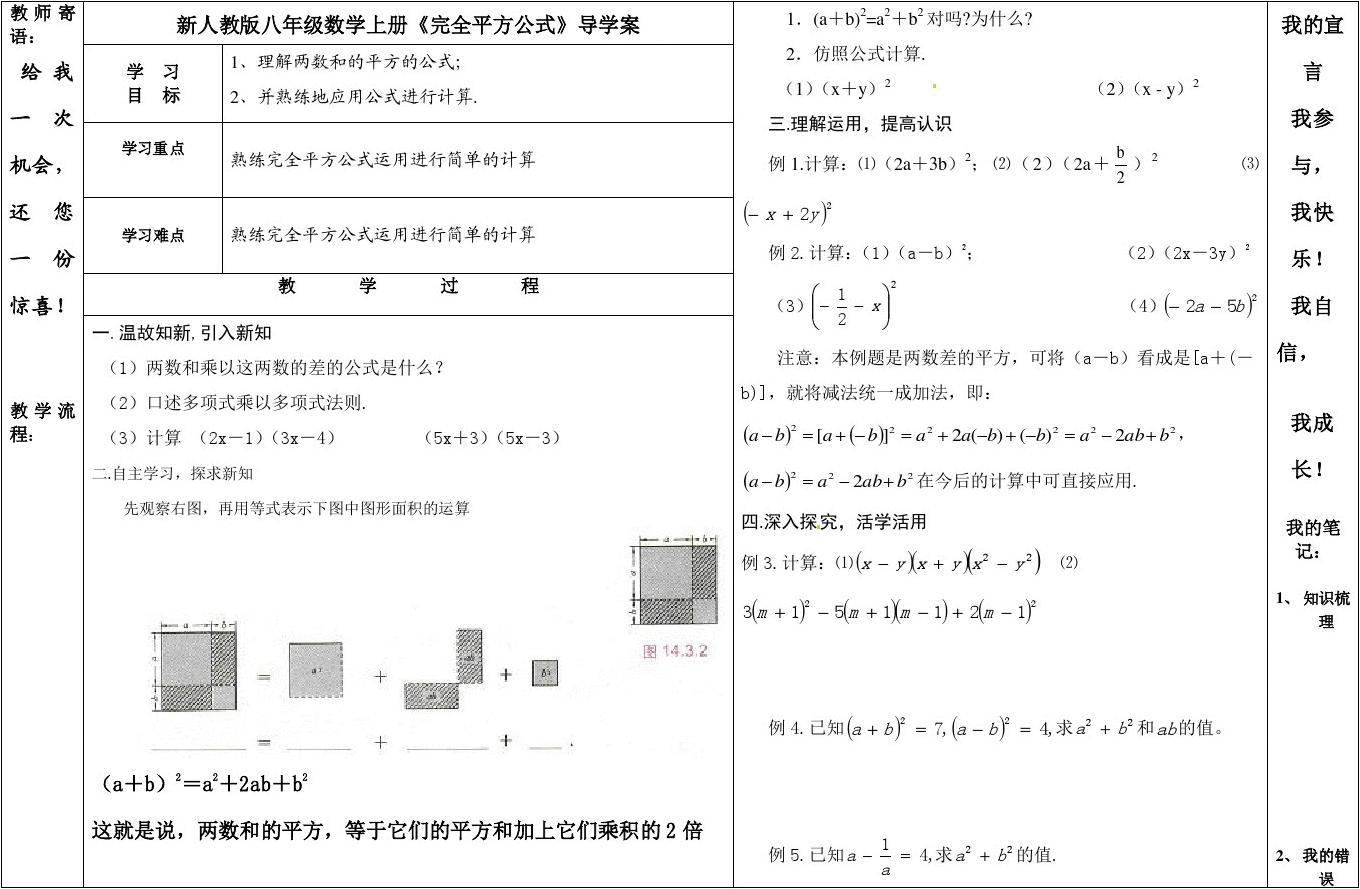division: (877, 848, 895, 862), (1111, 160, 1131, 171), (835, 301, 848, 310)
square: (1239, 238, 1256, 255), (916, 1, 930, 20), (962, 145, 975, 165), (1187, 75, 1204, 90), (1024, 549, 1039, 565), (897, 712, 910, 730), (1145, 150, 1161, 164), (170, 769, 183, 786), (786, 468, 801, 482), (1123, 716, 1139, 729), (888, 276, 900, 293), (855, 5, 869, 19), (1026, 596, 1040, 610), (297, 768, 310, 783), (882, 76, 895, 91), (824, 467, 836, 482), (1050, 421, 1061, 437), (881, 5, 894, 18), (922, 425, 935, 438), (1168, 421, 1179, 436), (957, 242, 969, 255), (787, 422, 801, 433), (982, 550, 992, 565), (1001, 715, 1013, 727), (804, 597, 813, 612), (905, 468, 916, 480), (209, 771, 219, 784), (961, 844, 974, 854), (1088, 422, 1097, 436), (1081, 718, 1093, 727), (1252, 291, 1259, 305), (1006, 841, 1013, 855), (890, 422, 897, 435), (824, 201, 832, 212)
